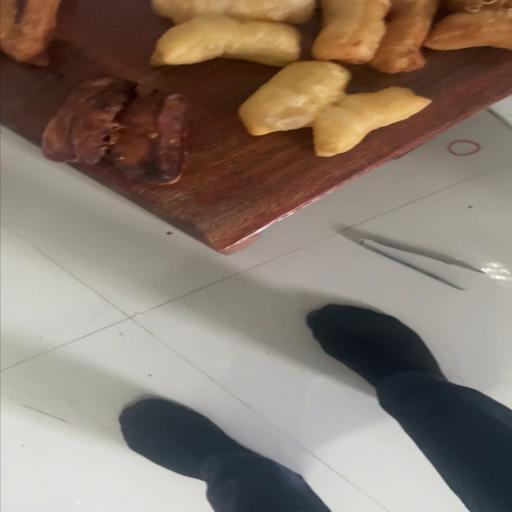street_burnt_defect: (40, 78, 188, 187)
street_golden_good: (150, 0, 502, 147), (144, 0, 316, 68)
